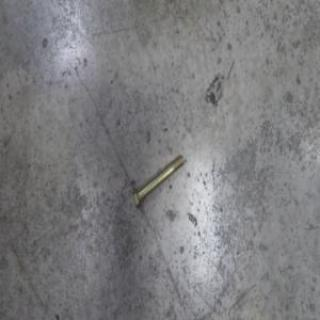Bolttrack_idkeyframe: (131, 150, 184, 210)
